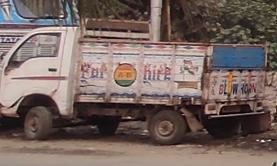Truck: (1, 16, 270, 147)
